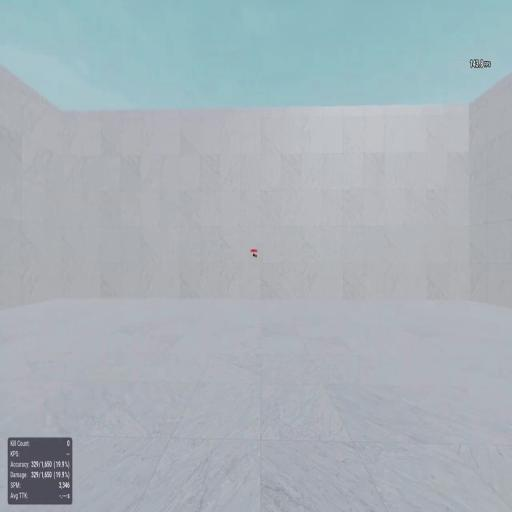Crosshair: (255, 254, 257, 258)
Target: (253, 253, 255, 257)
